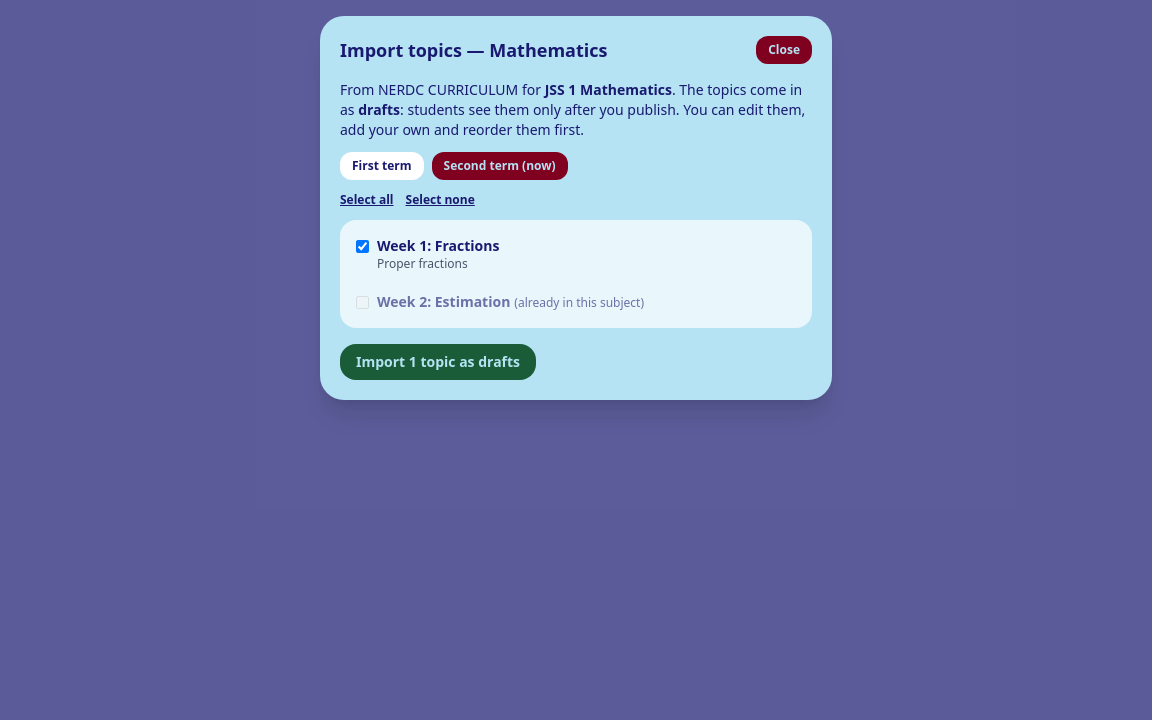
Test: opens on the current term, leaves topics already there unticked and imports the rest as drafts
Expected: the text "Week 1: Fractions" is shown, [377, 236, 499, 255]
Expected: the text "Week 1: Whole Numbers" is not shown
Click the button "Import 1 topic as drafts" at coordinates (438, 362), box [340, 344, 536, 380]
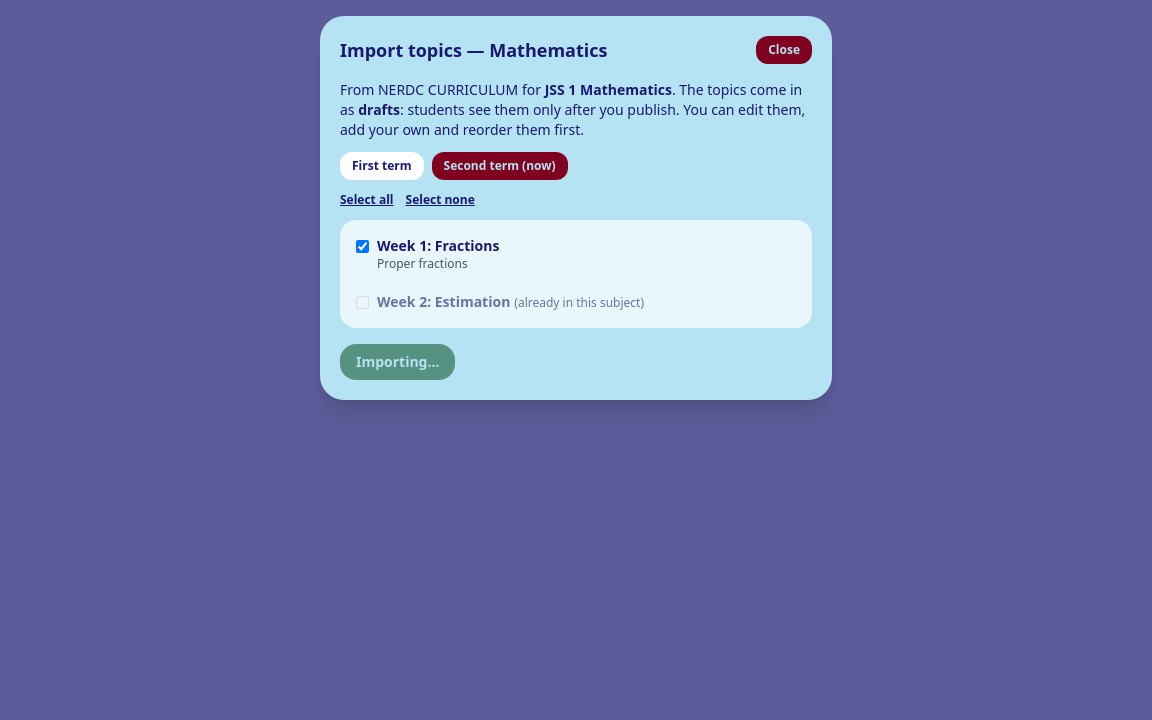
Click the tab "First term" at coordinates (382, 166), box [340, 152, 424, 180]
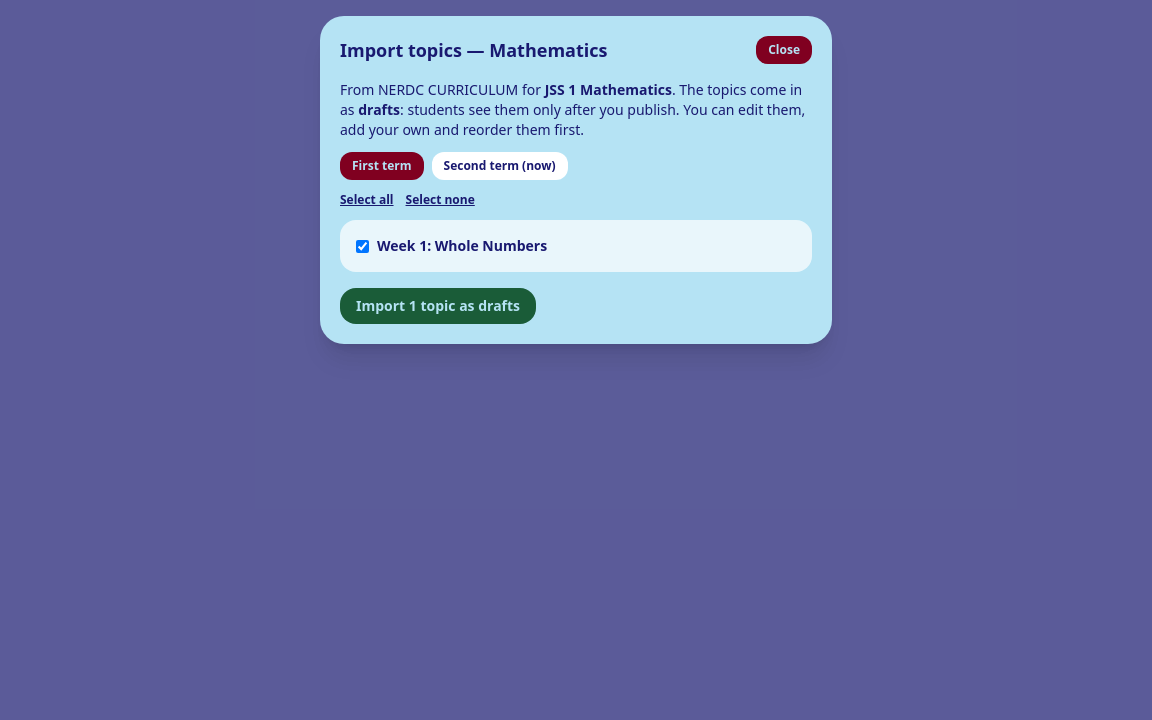
Now the text "Week 1: Whole Numbers" is shown, box [377, 236, 547, 255]
